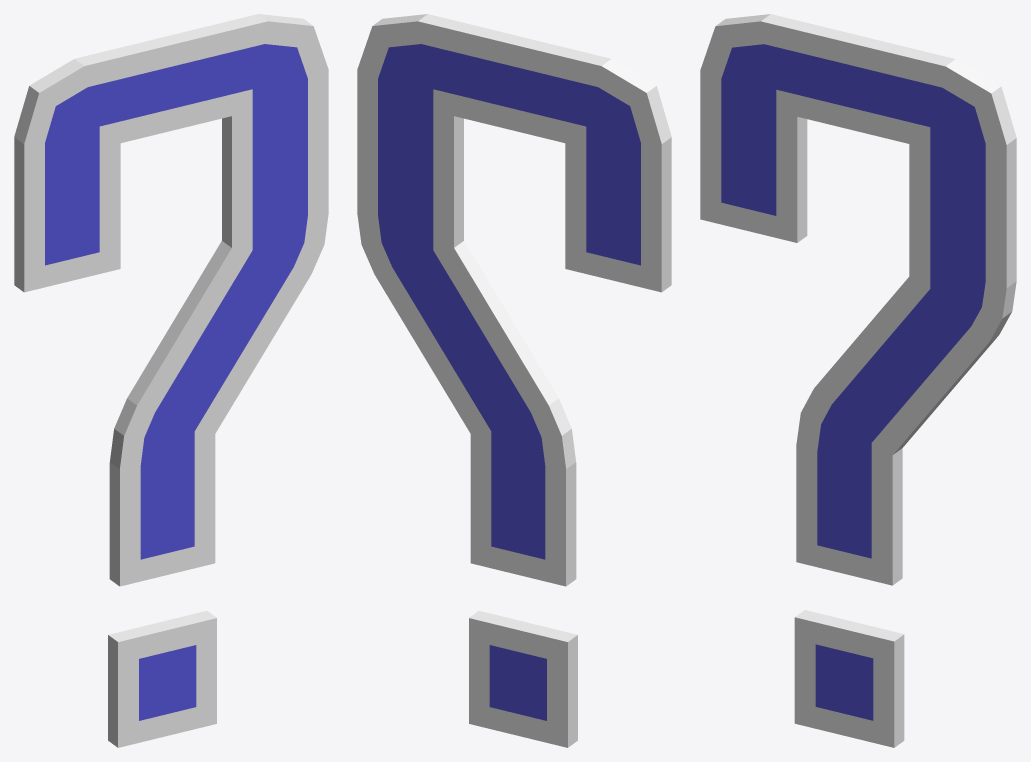
File: _placeholder.glb
The picture shows the model from 3 angles, left to right: view 1: azimuth 30°, elevation 25°; view 2: azimuth 150°, elevation 25°; view 3: azimuth 330°, elevation 25°; orthographic projection.
Parts seen in each view (by area): view 1: _placeholder; view 2: _placeholder; view 3: _placeholder.
Boxes of the visible parts, left/top/right/bottom form: _placeholder: left=14, top=14, right=328, bottom=747; _placeholder: left=357, top=14, right=671, bottom=747; _placeholder: left=700, top=14, right=1016, bottom=747.
Bounding box in the file's own units: 0.2949 × 0.6383 × 0.0168.
1 material, 1 textured.
